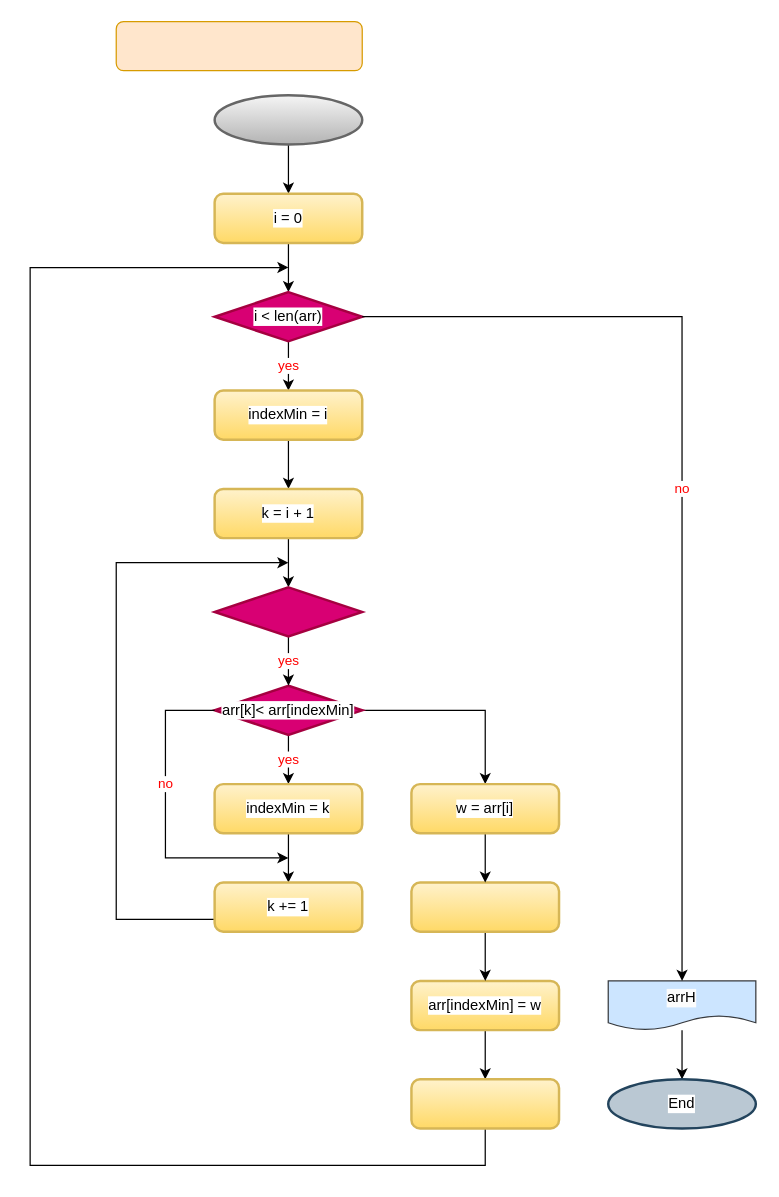
This 779x1197 diagram has some shape labels left out. Here are the shapes that lost their labels. From the top down, the centre of each, then its label:
At [238,45]: "단순 탐색법".
At [288,119]: "start".
At [288,611]: "k < len(arr)".
At [485,906]: "arr[i] = arr[indexMin]".
At [485,1103]: "i +=1".
